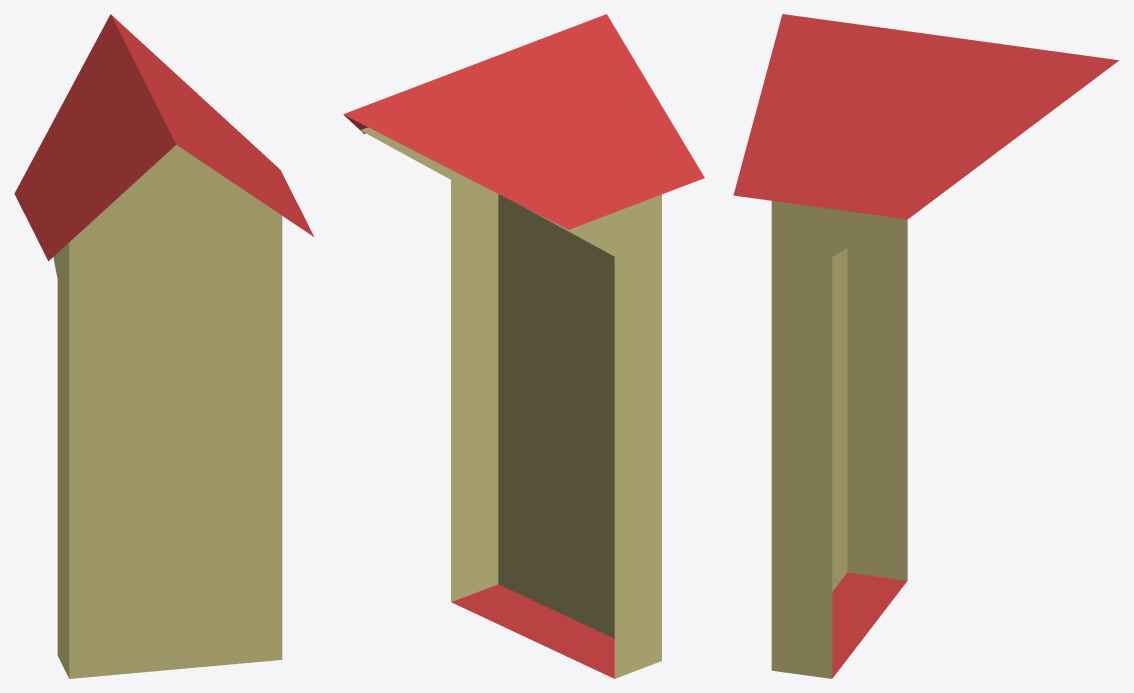
The picture shows the model from 3 angles, left to right: view 1: azimuth 30°, elevation 25°; view 2: azimuth 150°, elevation 25°; view 3: azimuth 270°, elevation 25°; orthographic projection. The views are drawn at different scales.
Bounding box in the file's own units: 5.7 × 6.35 × 10.9.
